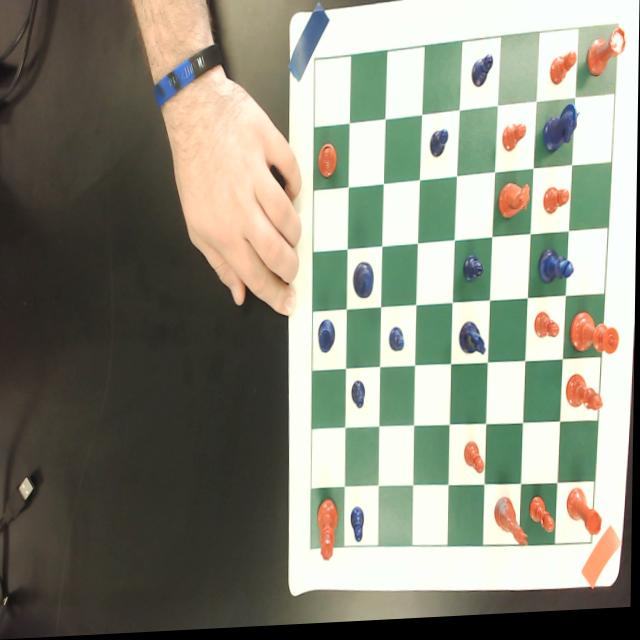B: (539, 253, 575, 291)
K: (353, 265, 376, 304)
N: (542, 108, 580, 162), (460, 326, 487, 362)
P: (472, 57, 494, 94), (463, 258, 486, 289), (430, 131, 449, 164), (352, 509, 366, 548), (352, 383, 367, 414), (390, 330, 406, 357)
R: (319, 321, 338, 359)
b: (566, 377, 605, 420), (319, 148, 339, 182)
k: (571, 316, 621, 363)
n: (495, 500, 531, 555), (499, 181, 531, 227)
p: (530, 500, 557, 541), (549, 55, 578, 93), (544, 191, 572, 222), (464, 446, 487, 483), (502, 127, 527, 160), (535, 316, 561, 346)
q: (318, 501, 340, 566)
r: (587, 32, 627, 85), (568, 491, 605, 544)
